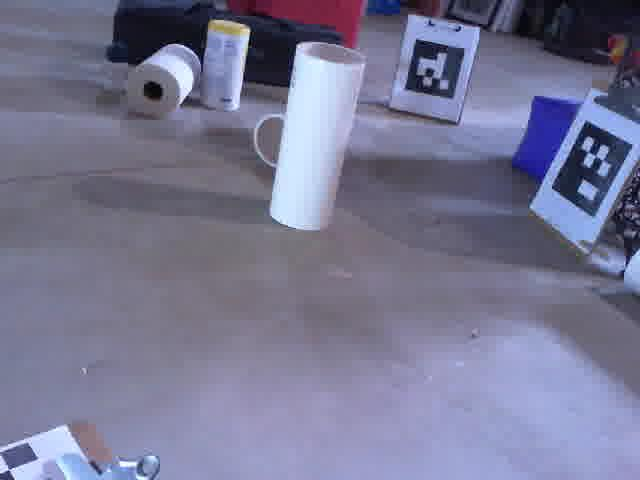coral: (259, 32, 381, 231), (251, 103, 295, 170)
